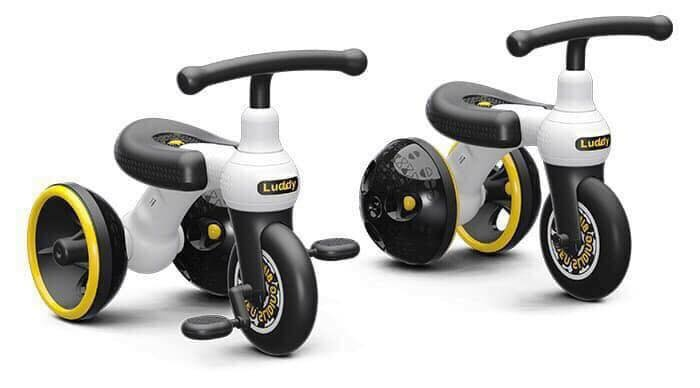xe_babanh: (352, 13, 679, 303)
xe_choichan: (18, 48, 363, 358)
